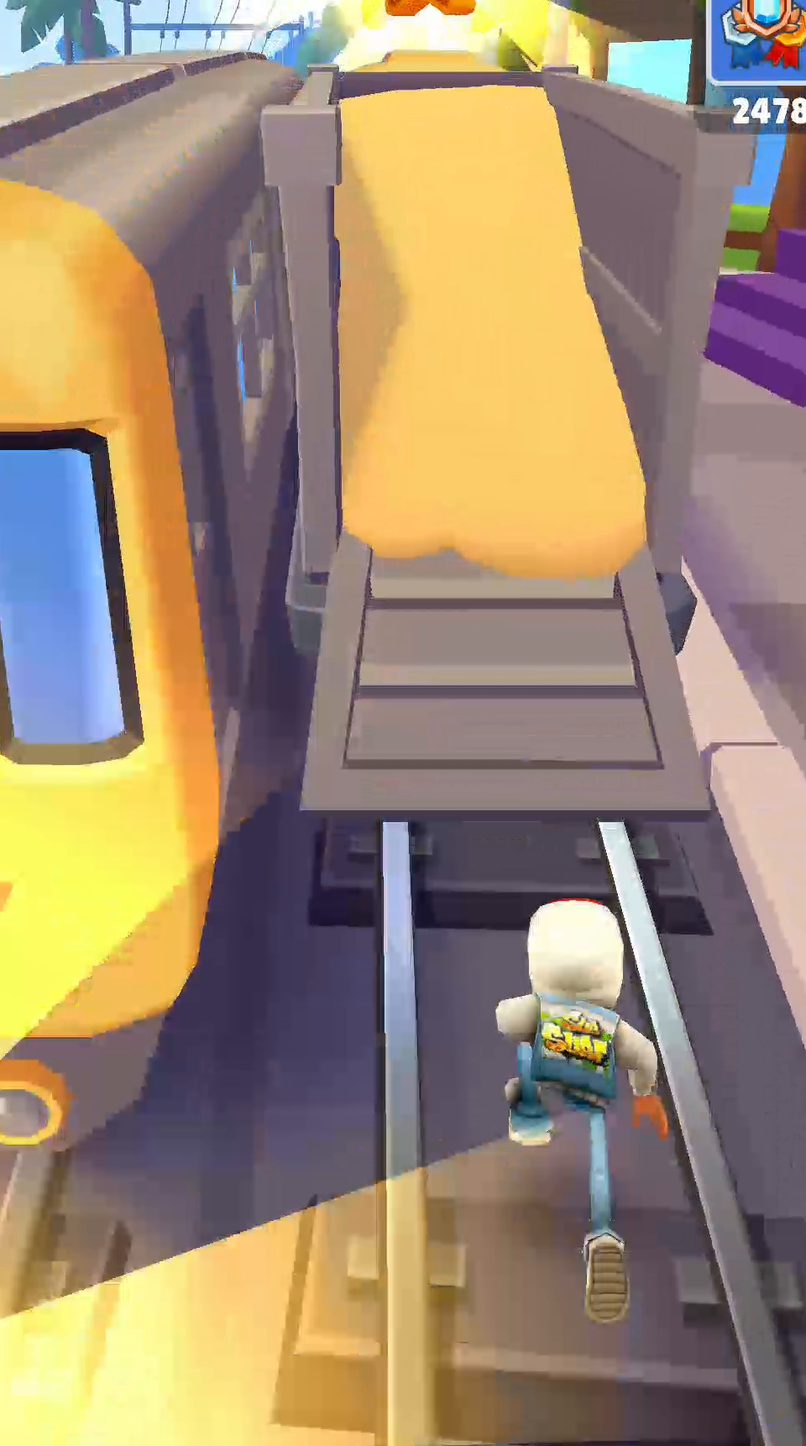climber: (305, 84, 704, 818)
train: (0, 60, 296, 1150)
